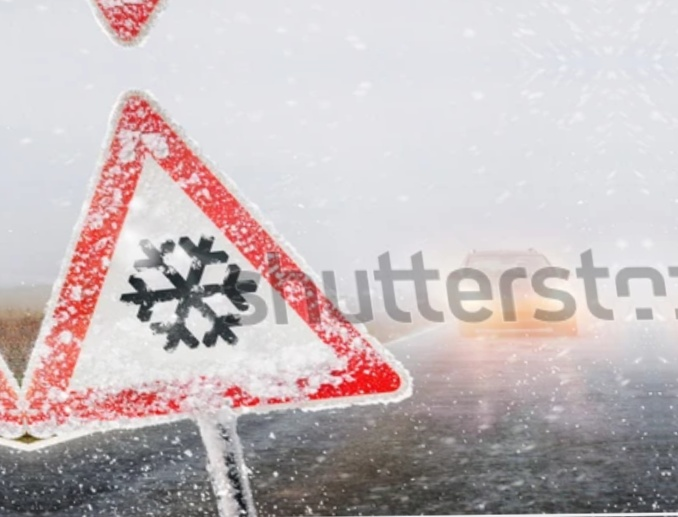Snowy road: (0, 84, 429, 446)
